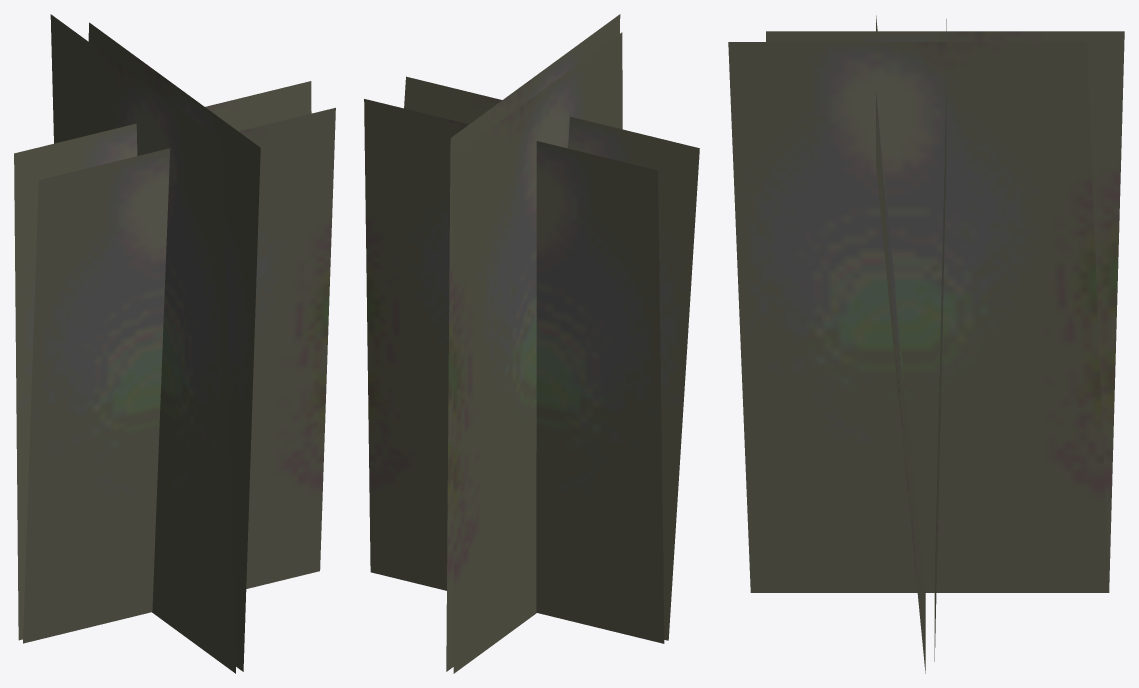
File: GrassDry2.fbx
3 renders of one model, left to right at view 1: azimuth 30°, elevation 25°; view 2: azimuth 150°, elevation 25°; view 3: azimuth 270°, elevation 25°, orthographic. The views are drawn at different scales.
Parts seen in each view (by area): view 1: GrassDry2; view 2: GrassDry2; view 3: GrassDry2.
Part boxes in pixels (x1,y1,x2,y2): GrassDry2: [14, 14, 335, 673]; GrassDry2: [364, 14, 699, 673]; GrassDry2: [728, 15, 1124, 673].
Size of the model in its own units: 0.408 by 0.438 by 0.676.
